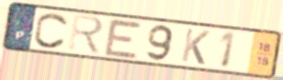1: (217, 30, 237, 69)
9: (145, 23, 175, 62)
C: (32, 12, 71, 51)
E: (102, 17, 145, 61)
K: (179, 26, 212, 67)
R: (66, 13, 106, 57)
